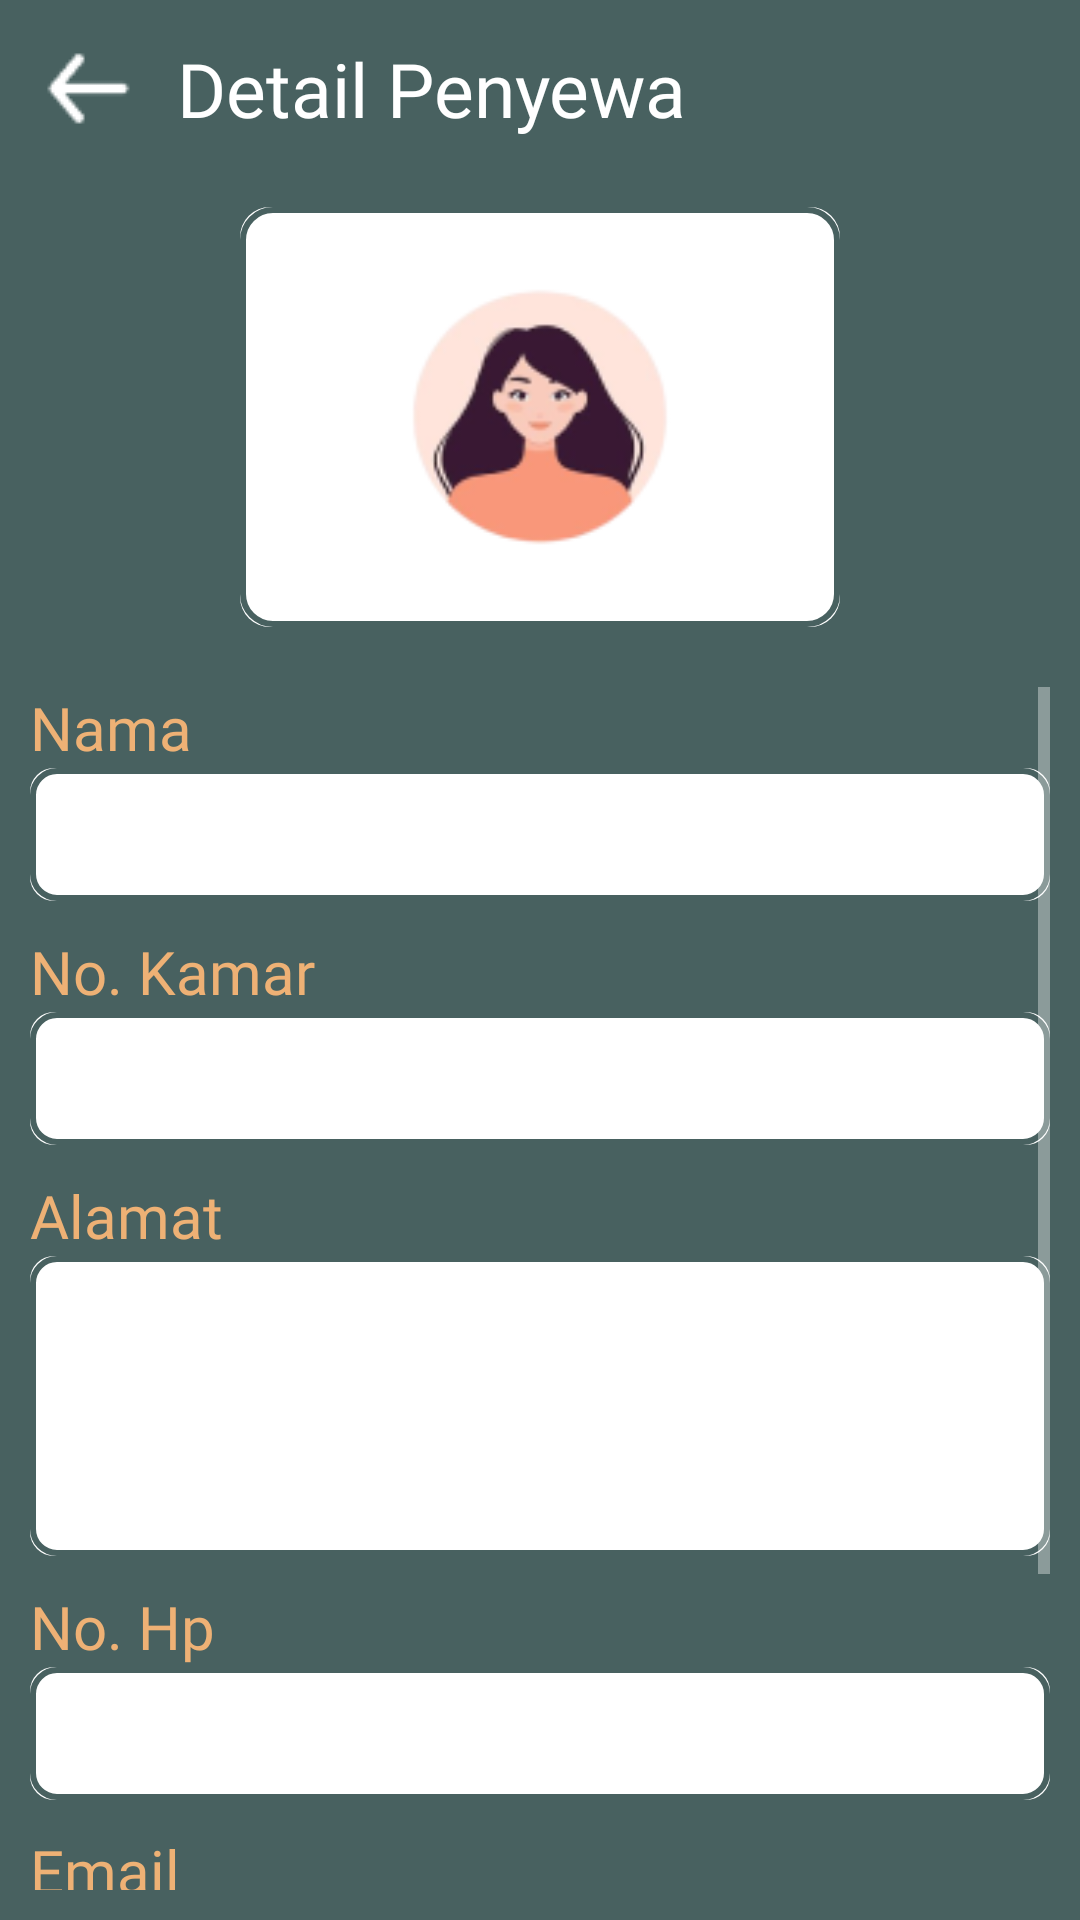

Icon click points for this 1080×1920 phone screenshot, format (x,y):
arrow: (88,88)
user: (539,418)
